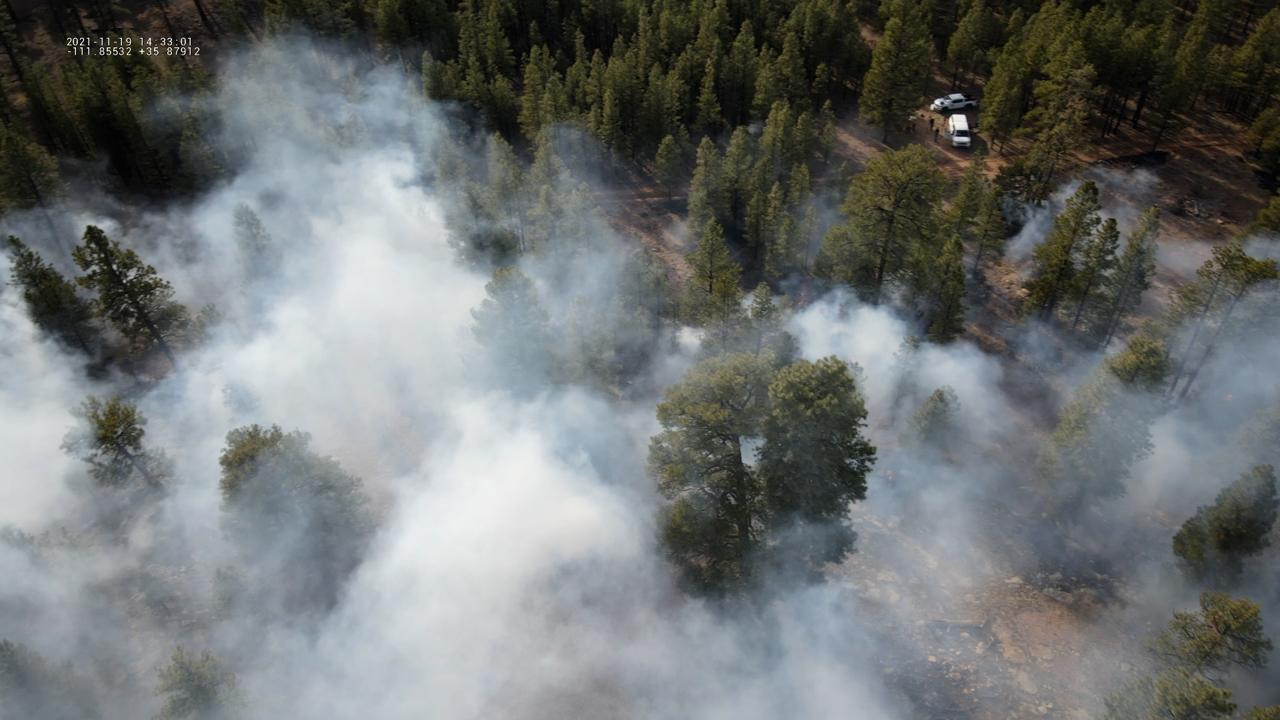smoke: (0, 46, 1280, 720)
